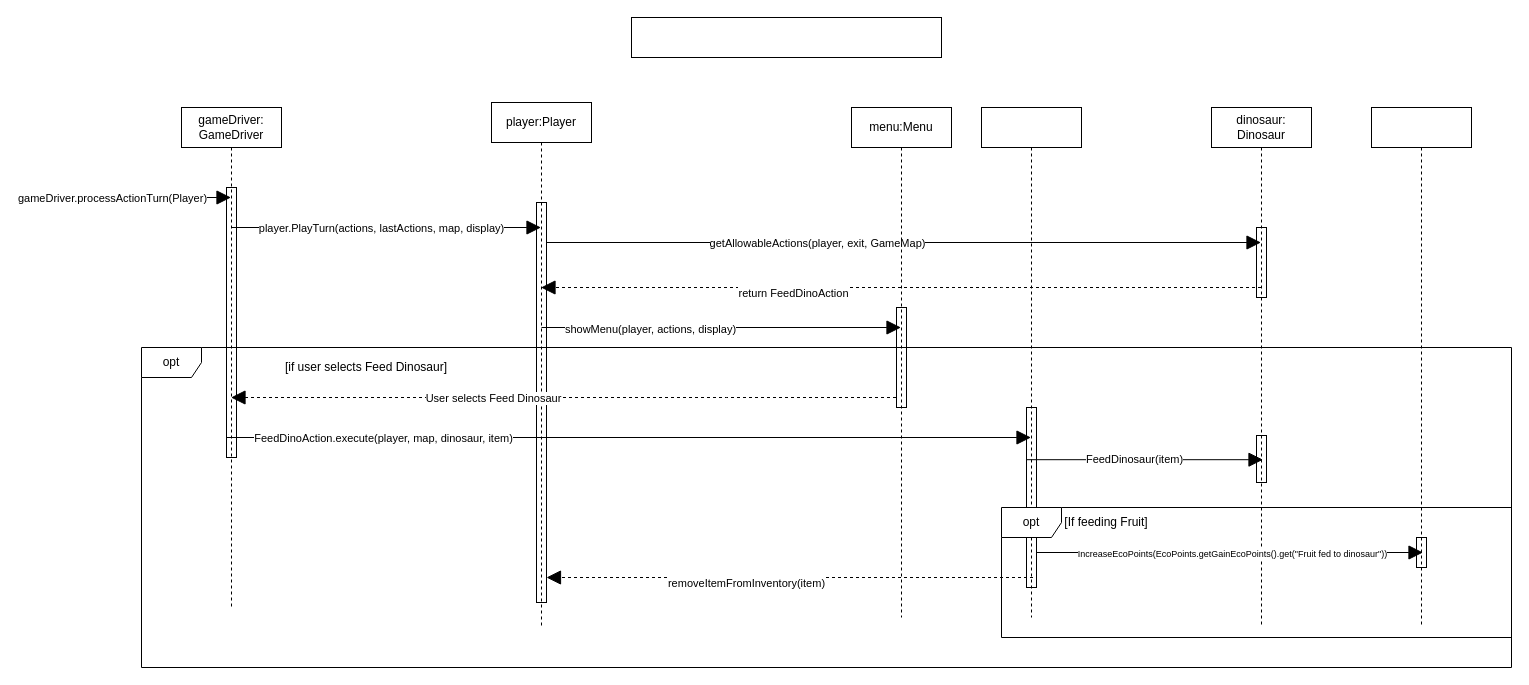
Some shapes in this 1529 by 685 pixel diagram are drawn without their labels. Here are the shapes that lost their labels. From the top down, the box of each, then its label:
(630, 16, 942, 58): FeedDino Sequence Diagram
(980, 106, 1082, 618): feedDinoAction: FeedDinoAction
(1370, 106, 1472, 628): ecoPoints: EcoPoints
